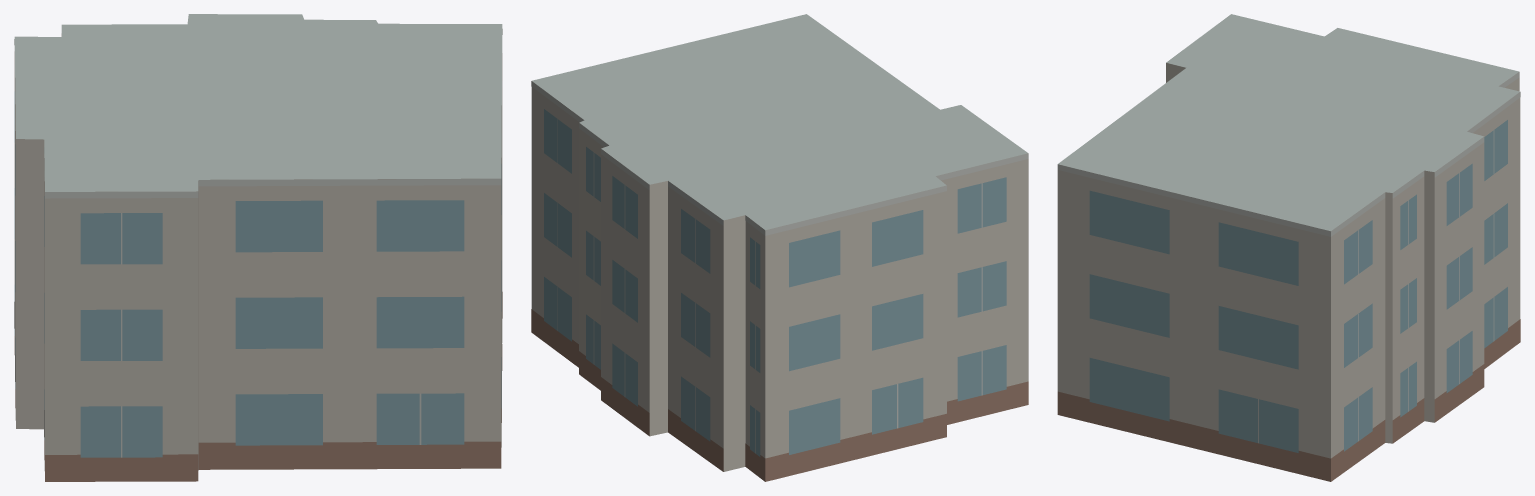
File: survey-upis-32705781.glb
The picture shows the model from 3 angles, left to right: view 1: azimuth 30°, elevation 25°; view 2: azimuth 150°, elevation 25°; view 3: azimuth 270°, elevation 25°; orthographic projection. The views are drawn at different scales.
Visible parts, largest first — view 1: survey-upis-32705781.tmp; view 2: survey-upis-32705781.tmp; view 3: survey-upis-32705781.tmp.
Boxes of the visible parts, bbox=[...] form: survey-upis-32705781.tmp: bbox=[14, 14, 502, 481]; survey-upis-32705781.tmp: bbox=[531, 14, 1028, 481]; survey-upis-32705781.tmp: bbox=[1057, 14, 1520, 481].
Bounding box in the file's own units: 20.09 × 10.8 × 18.08.
